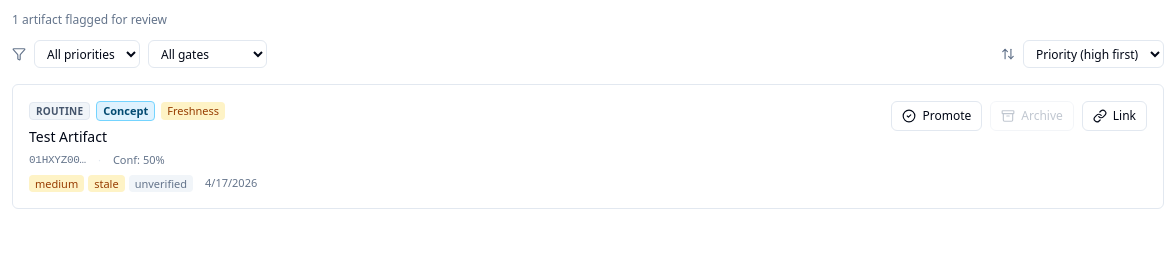
Scenario: ReviewQueue — Promote action: error path › shows an error toast when promoteArtifact fails
Click the button "Promote": [937, 116] box [891,101,982,131]
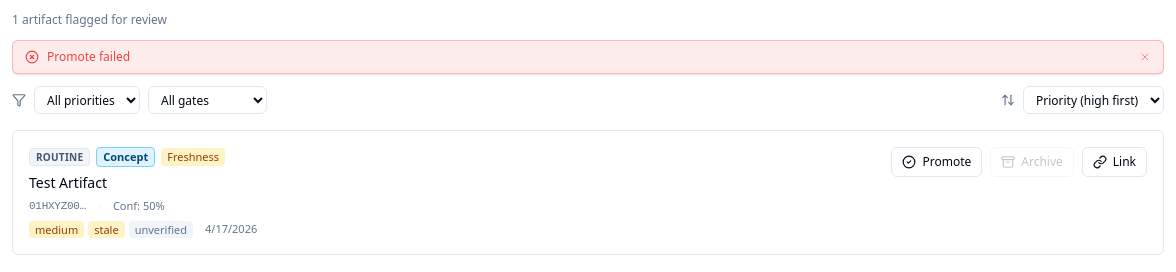
expect the text "Promote failed" is shown: met, box [47,48,130,65]
